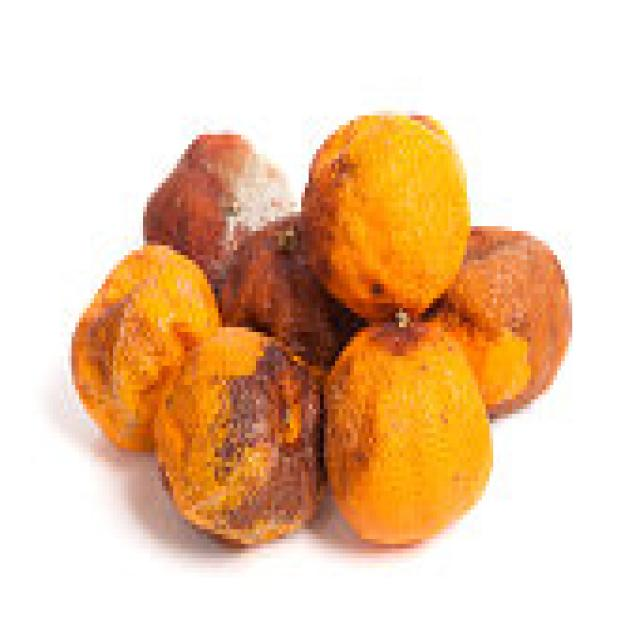overripe: (322, 311, 496, 550), (150, 320, 326, 548), (301, 98, 474, 317), (72, 246, 223, 450), (470, 211, 574, 416)
